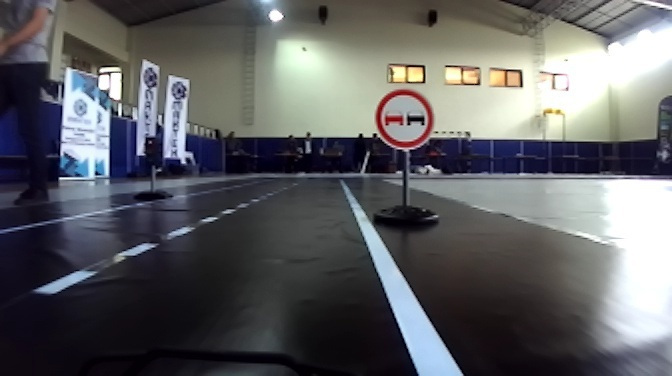sollama_yasak: (372, 87, 432, 152)
